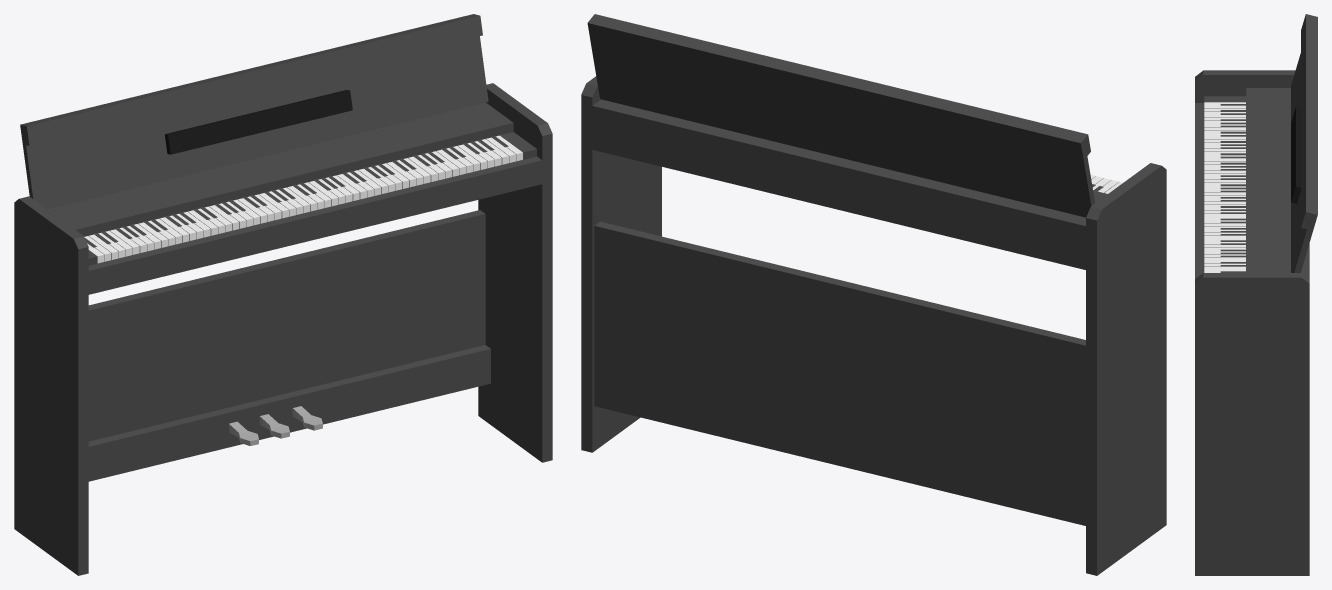
File: Piano.fbx
3 views of the same model, side by side, from view 1: azimuth 30°, elevation 25°; view 2: azimuth 150°, elevation 25°; view 3: azimuth 270°, elevation 25° (orthographic). The views are drawn at different scales.
Visible parts, largest first — view 1: Piano; view 2: Piano; view 3: Piano.
Boxes of the visible parts, bbox=[...] form: Piano: bbox=[14, 14, 552, 575]; Piano: bbox=[581, 14, 1166, 575]; Piano: bbox=[1195, 14, 1317, 575].
Size of the model in its own units: 87.15 by 70.55 by 21.83.
